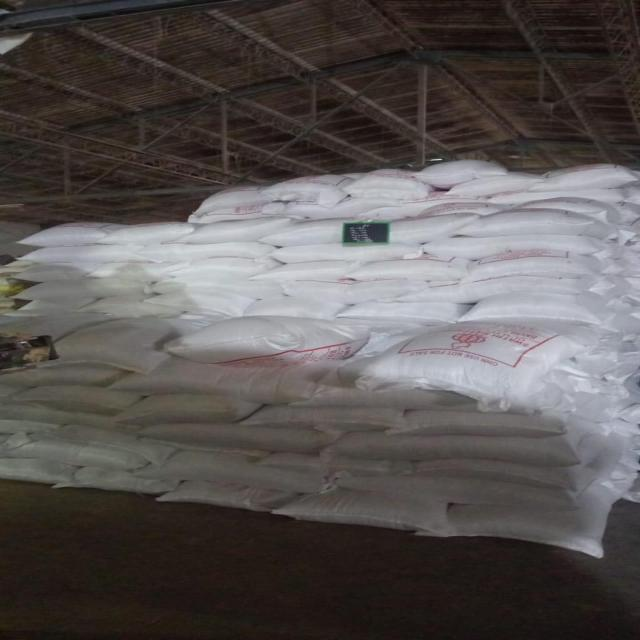gunny_bag: (354, 321, 586, 409), (326, 414, 610, 465), (413, 433, 627, 495), (430, 496, 614, 555), (164, 315, 378, 364), (31, 315, 205, 372), (117, 358, 344, 401), (299, 380, 569, 415), (131, 451, 331, 492), (334, 476, 579, 509), (279, 489, 450, 533), (135, 422, 337, 450), (398, 274, 597, 302), (47, 424, 177, 466), (3, 435, 151, 470), (426, 234, 611, 260), (280, 278, 429, 309), (0, 403, 142, 435), (459, 293, 609, 323), (456, 209, 614, 237), (118, 394, 258, 425), (467, 250, 606, 281), (390, 411, 562, 436), (158, 482, 300, 512), (237, 405, 409, 428), (363, 190, 486, 221), (12, 386, 141, 414), (257, 453, 414, 476), (171, 215, 296, 243), (55, 466, 179, 494), (269, 242, 426, 264), (345, 255, 465, 282), (258, 174, 352, 208), (8, 279, 150, 301), (338, 303, 474, 325), (264, 197, 401, 218), (527, 164, 637, 190), (418, 159, 510, 190), (345, 169, 436, 199), (147, 275, 276, 296), (446, 171, 547, 197), (21, 222, 126, 247), (262, 217, 348, 247), (144, 294, 256, 317), (244, 297, 351, 320), (7, 366, 129, 386), (19, 245, 146, 264), (99, 221, 203, 244), (141, 242, 272, 260), (194, 186, 269, 217), (489, 188, 625, 205), (70, 295, 180, 315), (0, 458, 83, 484), (251, 262, 364, 281), (530, 199, 621, 222), (169, 258, 271, 277), (10, 262, 101, 282), (91, 263, 180, 281), (188, 204, 265, 223), (426, 202, 505, 214)
